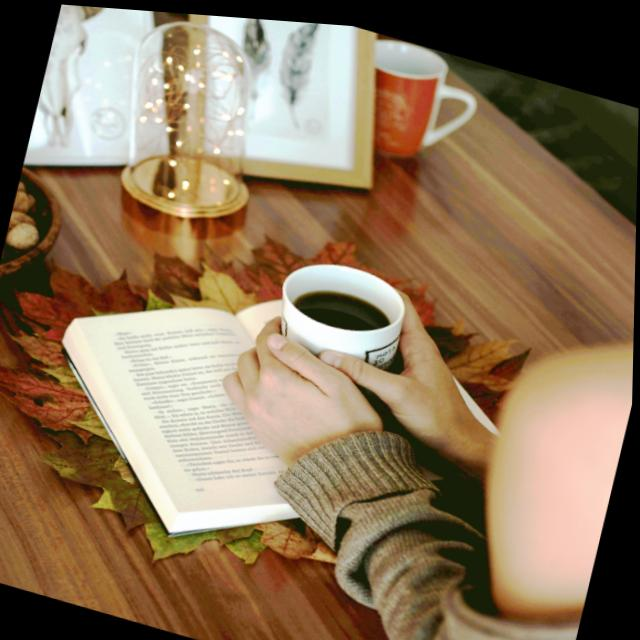drink: (283, 261, 401, 364)
